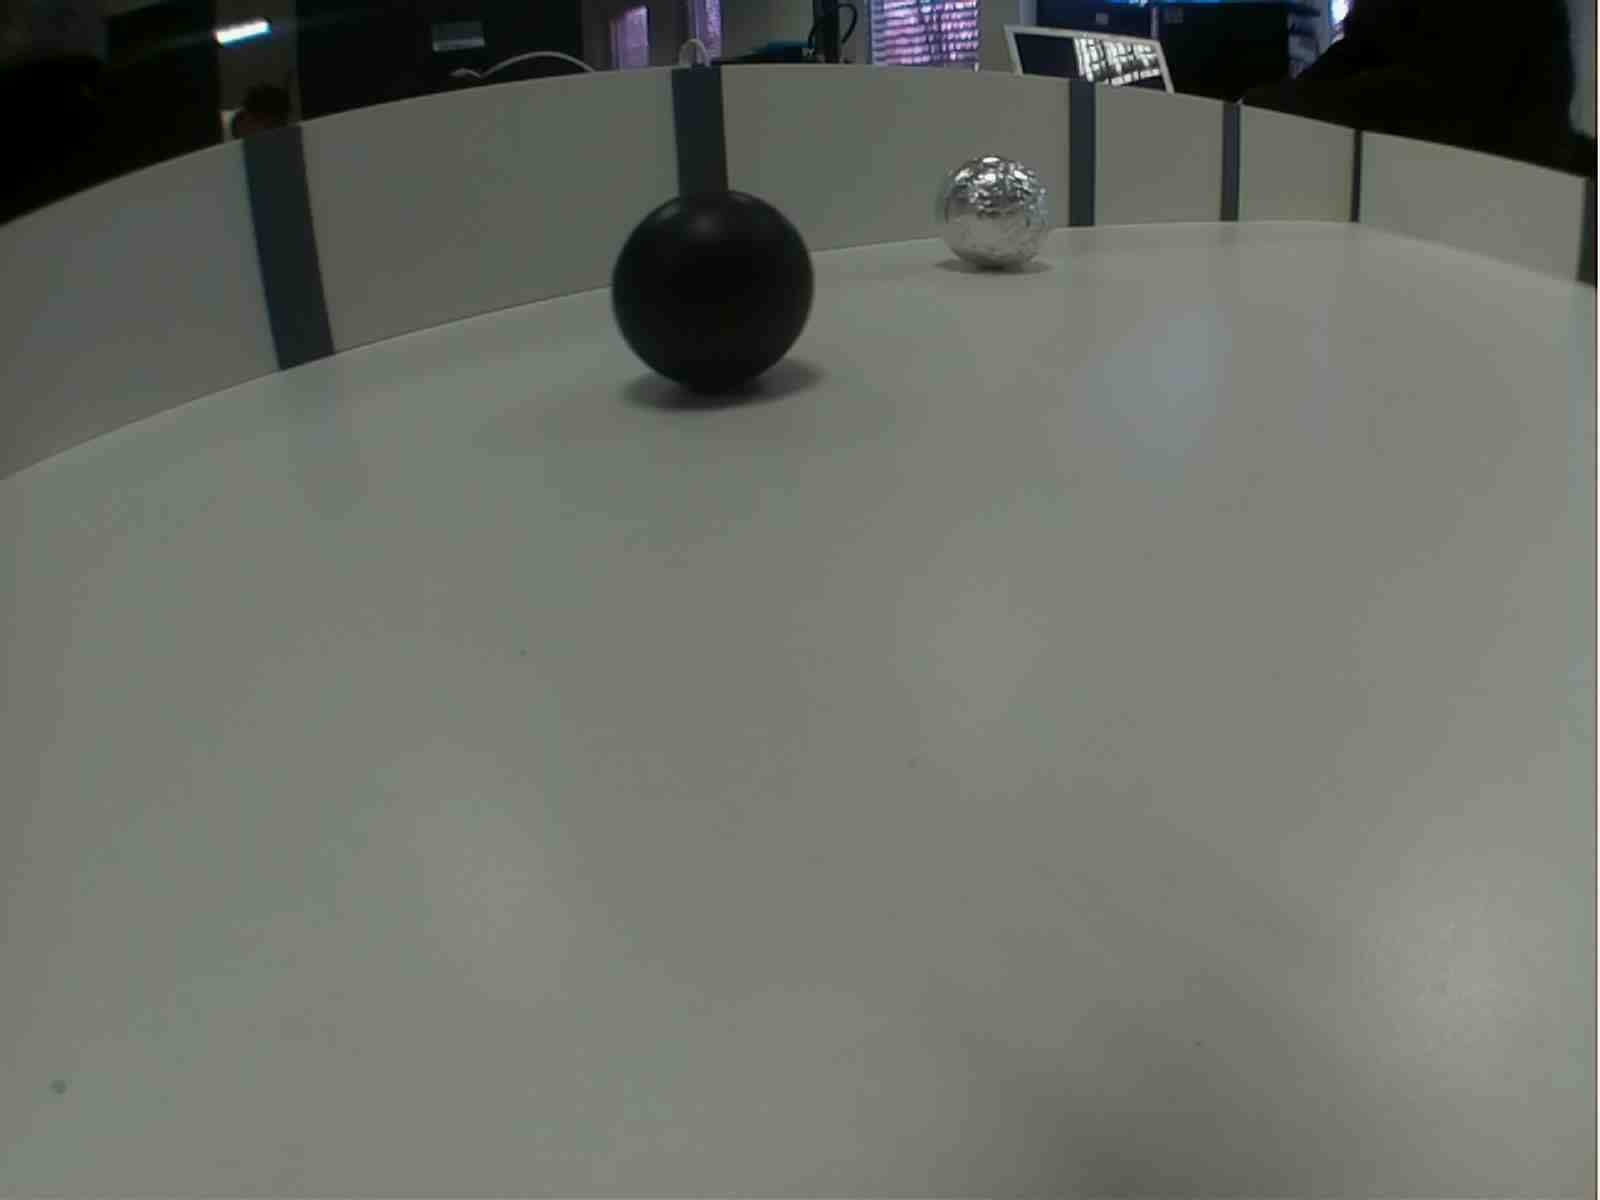bianca: (931, 153, 1049, 271)
nera: (603, 184, 821, 395)
